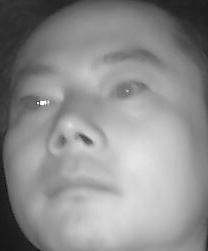eye: (107, 77, 152, 103), (15, 91, 56, 116)
mouth: (40, 166, 123, 210)
